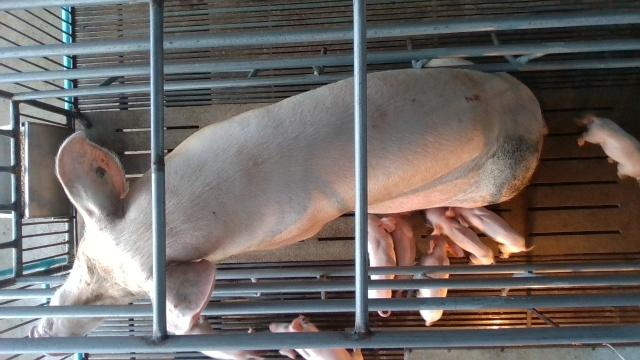piglet: (575, 112, 640, 185), (418, 233, 464, 327), (268, 316, 364, 360), (451, 208, 535, 258), (426, 208, 497, 266), (184, 318, 265, 360), (368, 212, 395, 317), (385, 212, 417, 298)
sow-sit: (29, 58, 547, 337)
